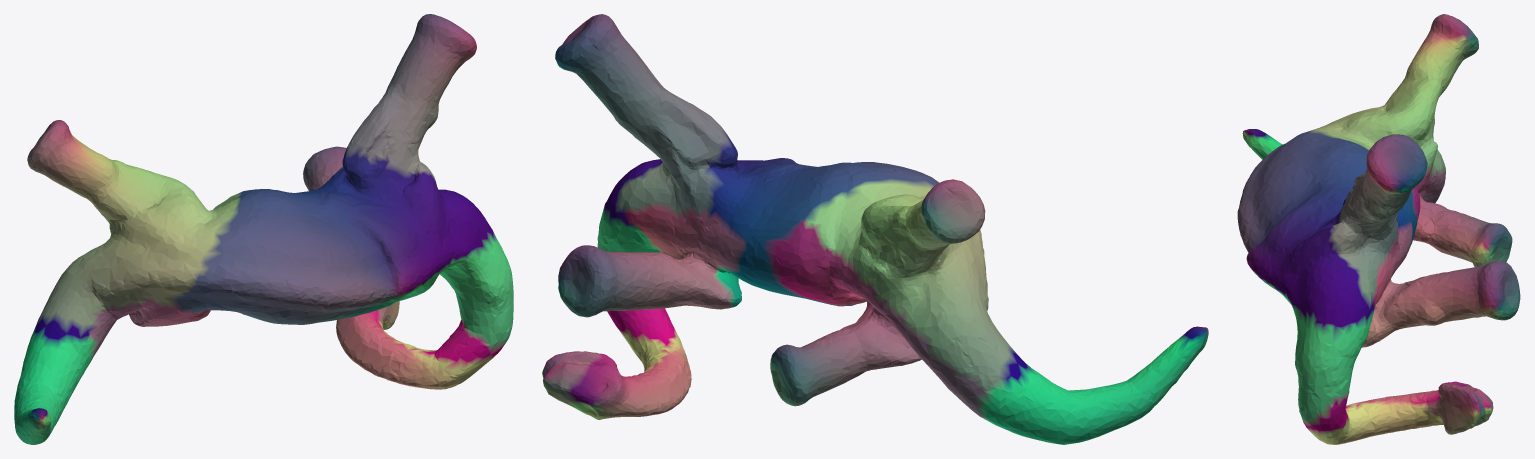
The model's file is dinosaur-7.off.obj.
3 renders of one model, left to right at view 1: azimuth 30°, elevation 25°; view 2: azimuth 150°, elevation 25°; view 3: azimuth 270°, elevation 25°, orthographic. The views are drawn at different scales.
Size of the model in its own units: 1.38 by 0.8779 by 0.7012.
